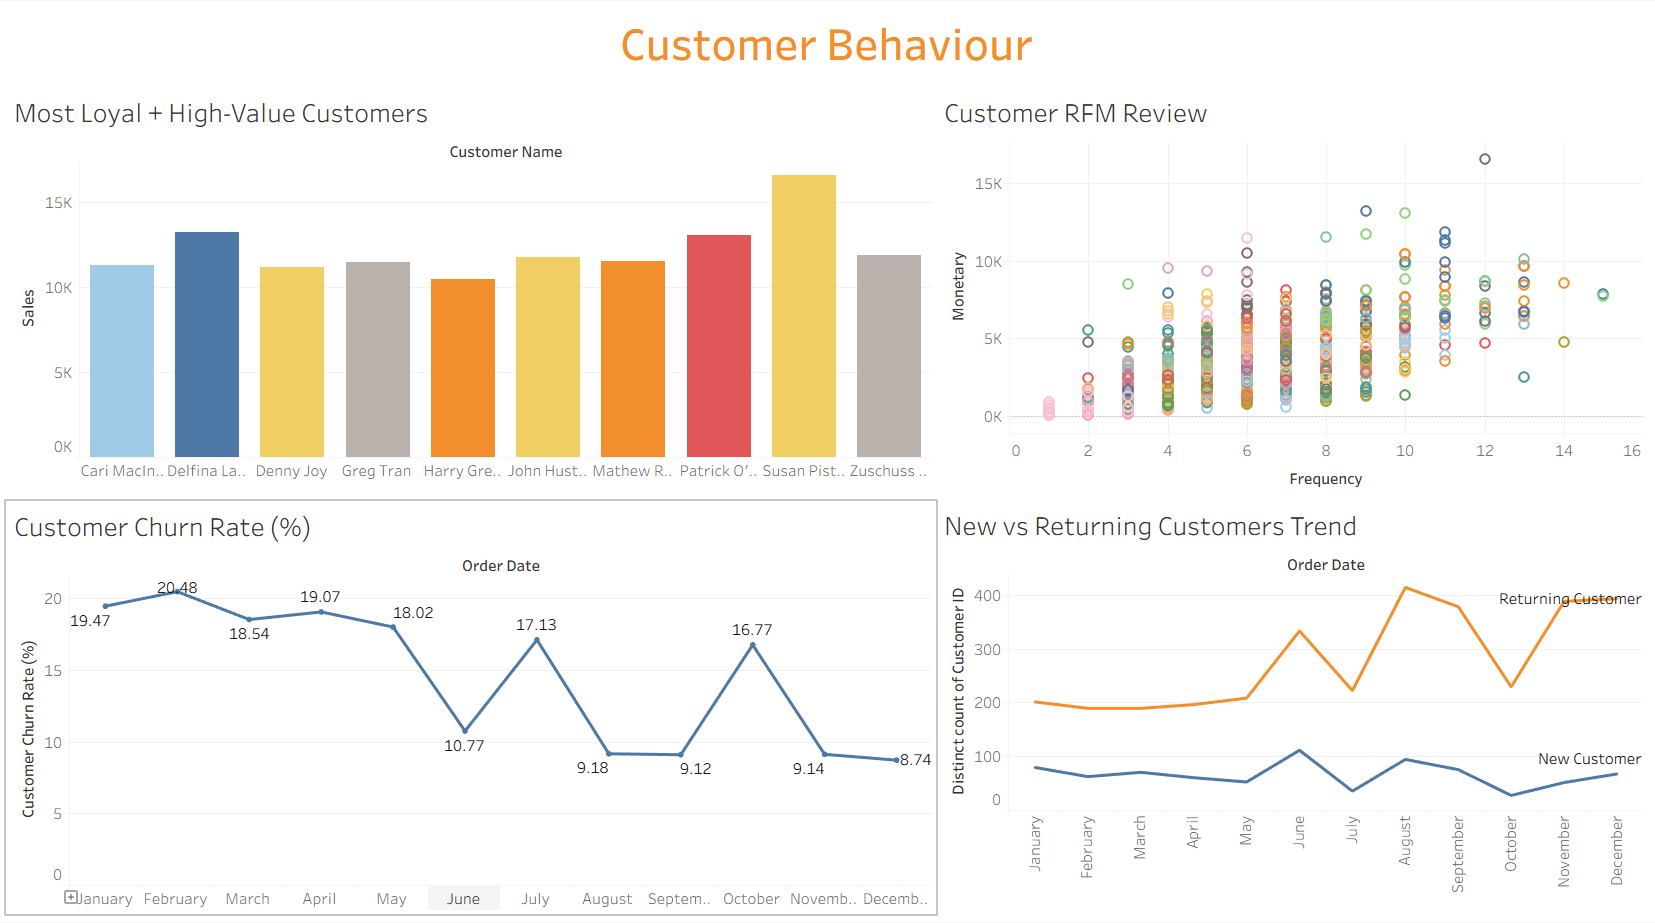

The page's visual inventory and layout, read from the dashboard file:
{"tool":"tableau","page":{"name":"Dashboard 2","canvas":[1000,1000],"units":"permille","ordinal":1},"visuals":[{"type":"text","box":[4.8,8.7,990.3,72.8]},{"type":"legend","title":"Customer RFM Review","param":"[federated.0y9y8i21ayybd6180b4q91holth1].[usr:Calculation_1149543813612118021:nk","box":[4.8,93.4,132.8,533.1]},{"type":"worksheet","title":"Most Loyal + High-Value Customers","mark":"Automatic","rows":["Sales"],"cols":["Customer Name"],"box":[137.6,93.4,428.8,449]},{"type":"worksheet","title":"Customer RFM Review","mark":"Automatic","rows":["Calculation_1149543813608423425"],"cols":["Calculation_1149543813610373123"],"box":[566.4,93.4,428.8,449]},{"type":"worksheet","title":"New vs Returning Customers Trend","mark":"Automatic","rows":["Customer ID"],"cols":["Order Date"],"box":[566.4,542.3,428.8,449]},{"type":"worksheet","title":"Customer Churn Rate (%)","mark":"Automatic","rows":["Calculation_1798062162074722313"],"cols":["Order Date"],"box":[137.6,542.4,428.8,449]},{"type":"legend","title":"Most Loyal + High-Value Customers","param":"[federated.0y9y8i21ayybd6180b4q91holth1].[none:Customer Name:nk]","box":[4.8,626.5,132.8,260.6]},{"type":"legend","title":"New vs Returning Customers Trend","param":"[federated.0y9y8i21ayybd6180b4q91holth1].[none:Calculation_1434677965413720064:n","box":[4.8,887.1,132.8,78.2]},{"type":"legend","title":"Customer Churn Rate (%)","param":"[federated.0y9y8i21ayybd6180b4q91holth1].[none:Calculation_1434677965421813763:n","box":[4.8,965.2,132.8,26.1]}]}

Visuals, with their boxes on the dashboard's canvas, which has no fixed pixel size, in thousandths of its width and height (x1, y1, x2, y2). These are canvas units, not pixel positions in the 1655x923 screenshot, which may show the page scaled, cropped or inside an application window:
text: (5,9,995,82)
"Customer RFM Review" legend: (5,93,138,626)
"Most Loyal + High-Value Customers" worksheet: (138,93,566,542)
"Customer RFM Review" worksheet: (566,93,995,542)
"New vs Returning Customers Trend" worksheet: (566,542,995,991)
"Customer Churn Rate (%)" worksheet: (138,542,566,991)
"Most Loyal + High-Value Customers" legend: (5,626,138,887)
"New vs Returning Customers Trend" legend: (5,887,138,965)
"Customer Churn Rate (%)" legend: (5,965,138,991)
